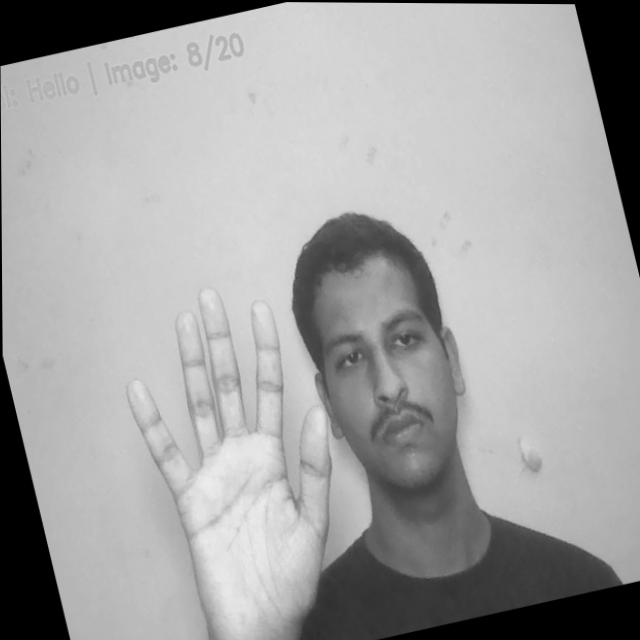Hello: (103, 268, 372, 640)
